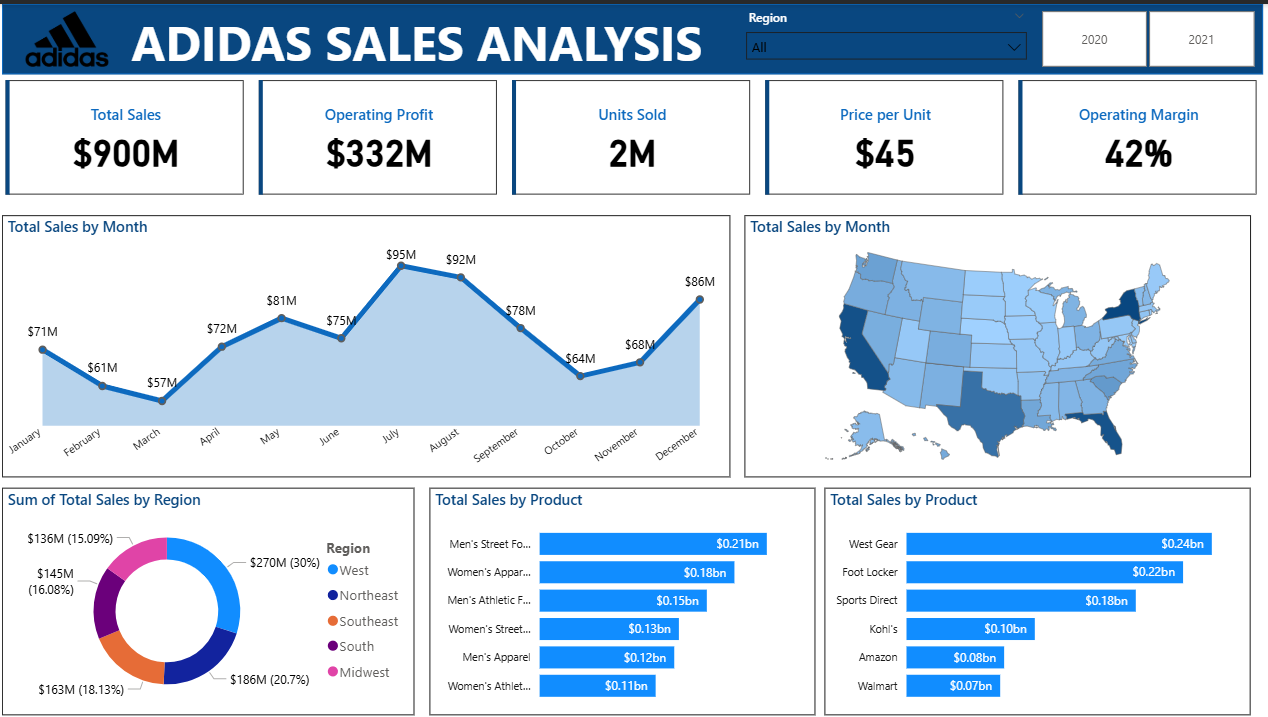

The dashboard page shown, as its layout file describes it:
{"tool":"powerbi","page":{"name":"Page 1","canvas":[1280,720],"ordinal":0},"visuals":[{"type":"shape","box":[10,0,1255,70],"z":0},{"type":"textbox","box":[120.7,0,604.6,74.6],"z":1000},{"type":"cardVisual","fields":{"Data":["Sum(Data Sales Adidas.Total Sales)","Sum(Data Sales Adidas.Operating Profit)","Sum(Data Sales Adidas.Units Sold)","Avg(Data Sales Adidas.Price per Unit)","Avg(Data Sales Adidas.Operating Margin)"]},"box":[8.5,70.5,1257.7,124.1],"z":2000},{"type":"areaChart","title":"Total Sales by Month","fields":{"Y":["Sum(Data Sales Adidas.Total Sales)"],"Category":["Data Sales Adidas.Invoice Date.Variation.Date Hierarchy.Month"]},"box":[10.1,210.1,724.6,260.9],"z":3000},{"type":"shapeMap","title":"Total Sales by Month","fields":{"Category":["Data Sales Adidas.State"],"Value":["Sum(Data Sales Adidas.Total Sales)"]},"box":[749.3,210.1,504.3,260.9],"z":4000},{"type":"donutChart","fields":{"Y":["Sum(Data Sales Adidas.Total Sales)"],"Category":["Data Sales Adidas.Region"]},"box":[9.6,481.6,410,226],"z":5000},{"type":"barChart","title":"Total Sales by Product","fields":{"Y":["Sum(Data Sales Adidas.Total Sales)"],"Category":["Data Sales Adidas.Product"]},"box":[435,481.6,384.2,226.4],"z":6000},{"type":"barChart","title":"Total Sales by Product","fields":{"Y":["Sum(Data Sales Adidas.Total Sales)"],"Category":["Data Sales Adidas.Retailer"]},"box":[828.5,481.4,424.2,226.4],"z":7000},{"type":"slicer","fields":{"Values":["Data Sales Adidas.Region"]},"box":[740.2,0,299.8,69.7],"z":8000},{"type":"slicer","fields":{"Values":["Data Sales Adidas.Invoice Date.Variation.Date Hierarchy.Year"]},"box":[1018.8,0,261.2,69.7],"z":9000},{"type":"image","box":[28.6,0,92.1,69.7],"z":9001}]}

Visuals, with their boxes in screenshot pixels (x1, y1, x2, y2), scaled from the page's 1280x720 canvas onto the 1268x717 screenshot:
shape: (10,0,1253,70)
textbox: (120,0,719,74)
cardVisual - Sum(Data Sales Adidas.Total Sales) x Sum(Data Sales Adidas.Operating Profit): (8,70,1254,194)
"Total Sales by Month" areaChart: (10,209,728,469)
"Total Sales by Month" shapeMap: (742,209,1242,469)
donutChart - Sum(Data Sales Adidas.Total Sales) x Data Sales Adidas.Region: (10,480,416,705)
"Total Sales by Product" barChart: (431,480,812,705)
"Total Sales by Product" barChart: (821,479,1241,705)
slicer - Data Sales Adidas.Region: (733,0,1030,69)
slicer - Data Sales Adidas.Invoice Date.Variation.Date Hierarchy.Year: (1009,0,1267,69)
image: (28,0,120,69)
